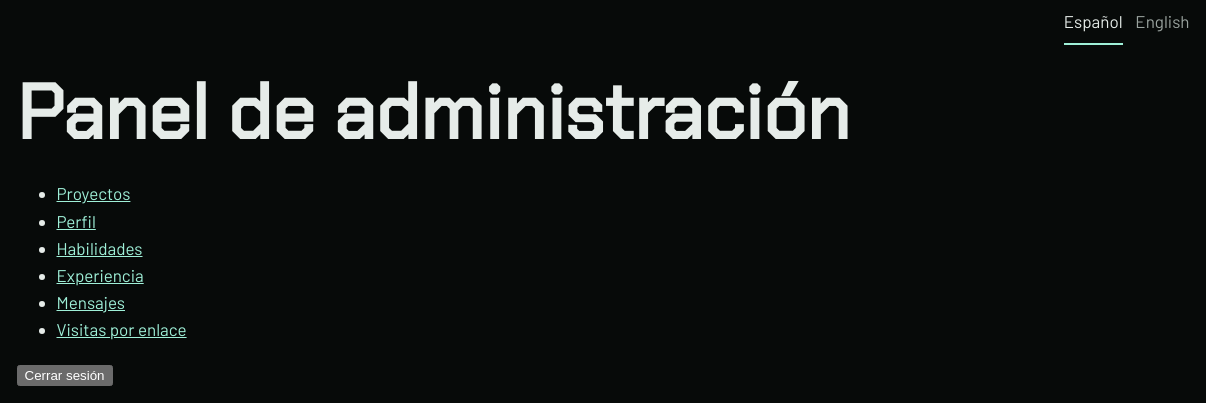
it: projects in the admin panel › the admin panel home links to the projects
Click the link "Proyectos".
click(93, 193)  # box [56,183,130,203]
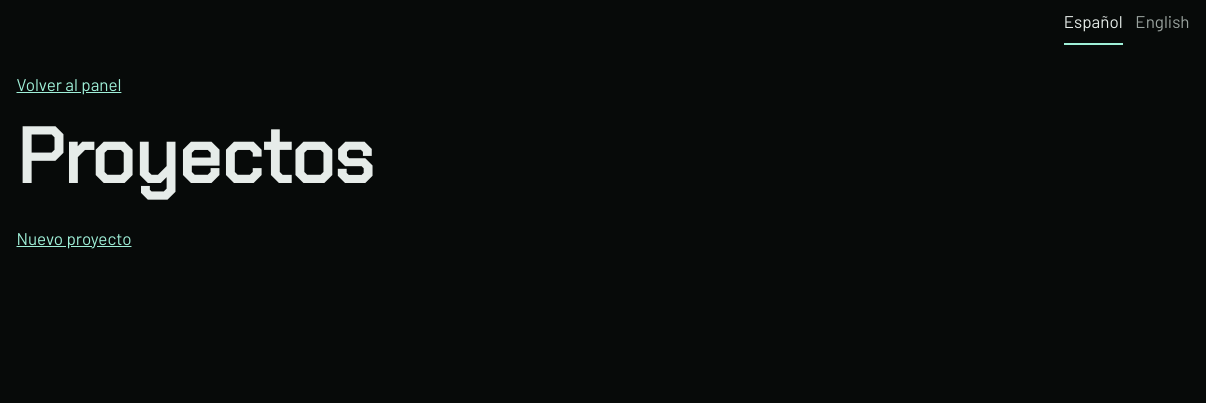
Expected: the heading "Proyectos" is shown, [16,107,373,207]
